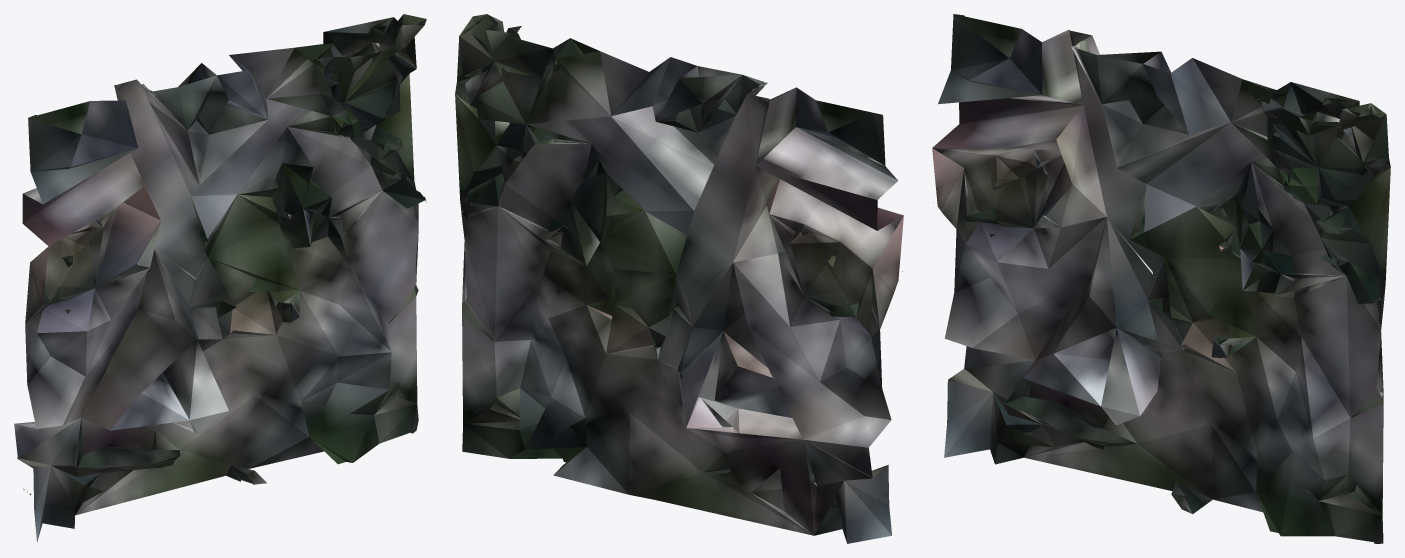
Rendered from Tile_+031_+023_L13.obj.
The picture shows the model from 3 angles, left to right: view 1: azimuth 30°, elevation 25°; view 2: azimuth 150°, elevation 25°; view 3: azimuth 330°, elevation 25°; orthographic projection. The views are drawn at different scales.
Size of the model in its own units: 250 by 250 by 42.72.
Materials: 1 (1 with a texture image).
